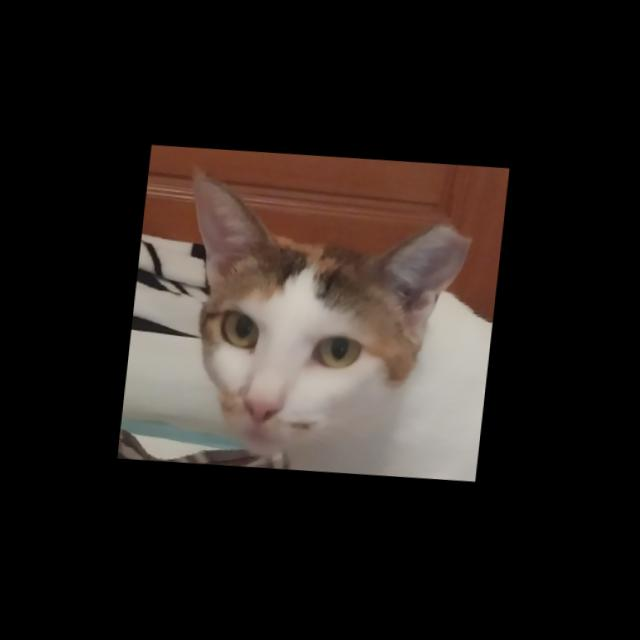animals: (156, 162, 480, 467)
